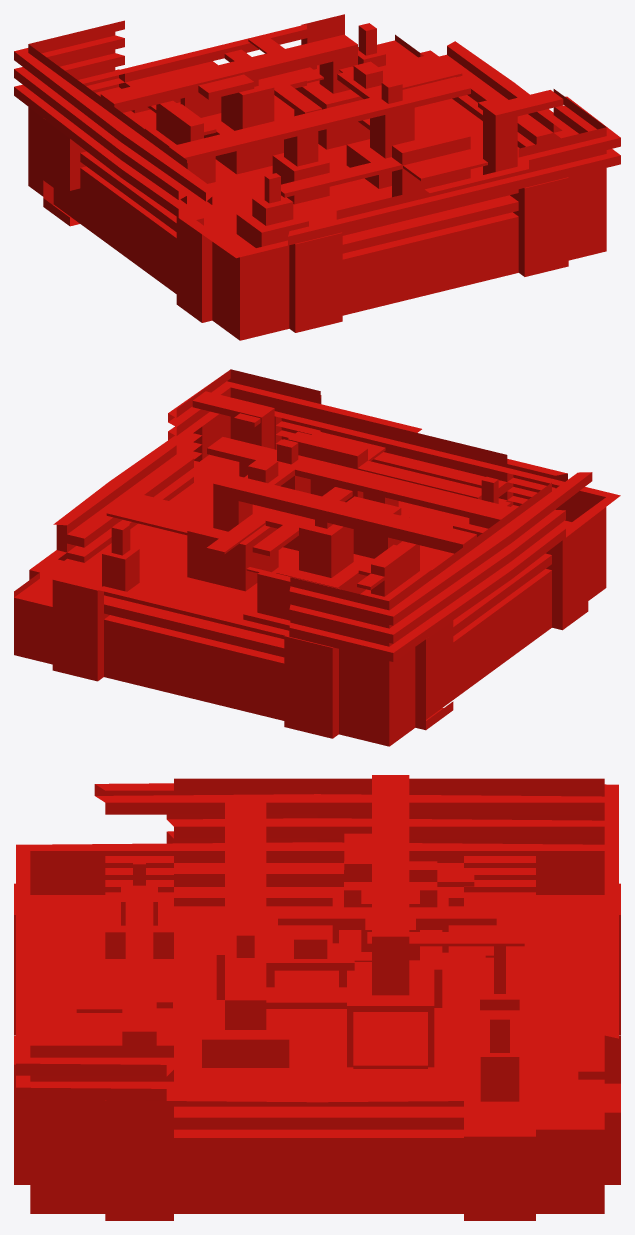
File: obj-building_phase_3_001.glb
3 renders of one model, top to bottom at view 1: azimuth 30°, elevation 25°; view 2: azimuth 150°, elevation 25°; view 3: azimuth 270°, elevation 25°, orthographic. The views are drawn at different scales.
Visible parts, largest first — view 1: Building_phase_3.001; view 2: Building_phase_3.001; view 3: Building_phase_3.001.
Boxes of the visible parts, bbox=[...] form: Building_phase_3.001: bbox=[14, 14, 620, 340]; Building_phase_3.001: bbox=[14, 369, 620, 746]; Building_phase_3.001: bbox=[14, 775, 620, 1220].
Size of the model in its own units: 7.24 by 2.55 by 7.14.
